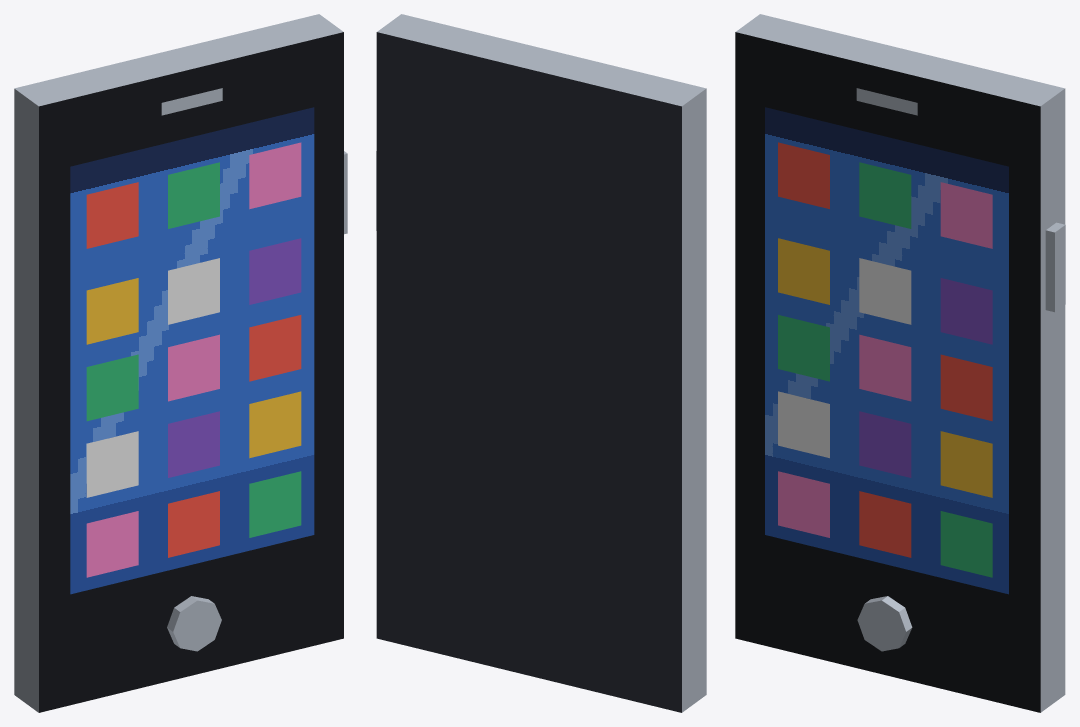
Rendered from around-smartphone.glb.
The picture shows the model from 3 angles, left to right: view 1: azimuth 30°, elevation 25°; view 2: azimuth 150°, elevation 25°; view 3: azimuth 330°, elevation 25°; orthographic projection.
Visible parts, largest first — view 1: around.smartphone; view 2: around.smartphone; view 3: around.smartphone.
Boxes of the visible parts, x1,y1,x2,y2 form: around.smartphone: [14, 14, 347, 712]; around.smartphone: [376, 14, 706, 712]; around.smartphone: [735, 14, 1065, 712].
Size of the model in its own units: 0.9501 by 1.75 by 0.1614.
10 materials, 1 textured.
